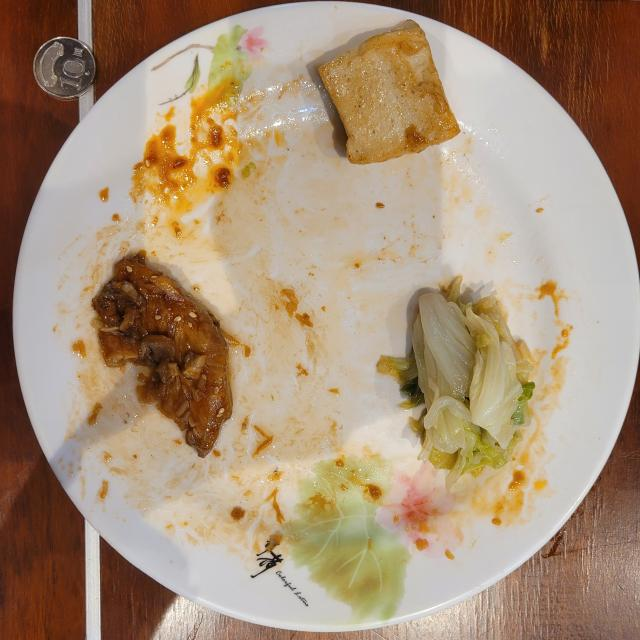Kabayaki sea bream fillet: (92, 251, 232, 456)
cabbage: (379, 279, 534, 489)
coin: (32, 36, 96, 100)
creamy tofu -without sauce-: (319, 20, 460, 164)
